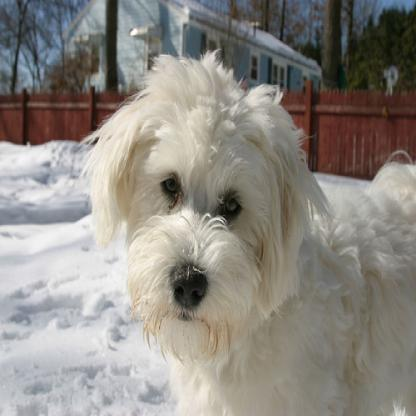dog: (84, 47, 415, 415)
